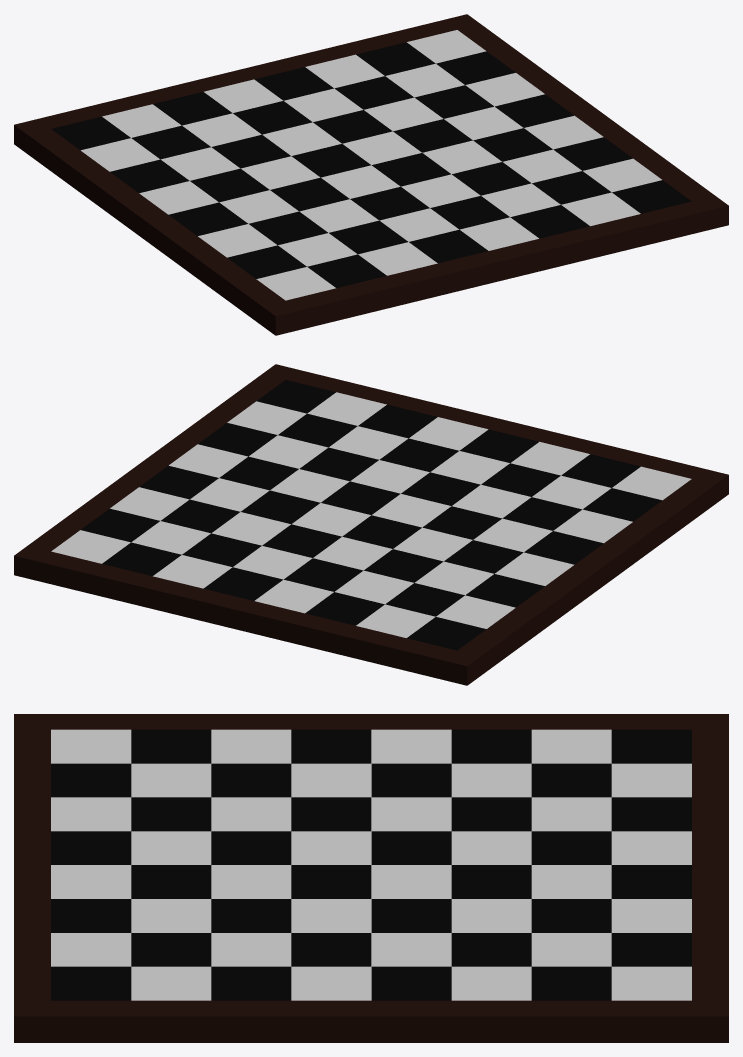
Rendered from Chessboard.obj.
3 renders of one model, top to bottom at view 1: azimuth 30°, elevation 25°; view 2: azimuth 150°, elevation 25°; view 3: azimuth 270°, elevation 25°, orthographic. The views are drawn at different scales.
Parts seen in each view (by area): view 1: Board; view 2: Board; view 3: Board.
Part boxes in pixels (x1,y1,x2,y2): Board: (14,14,728,335); Board: (14,364,728,685); Board: (14,714,728,1042).
Size of the model in its own units: 13.56 by 0.5587 by 13.56.
